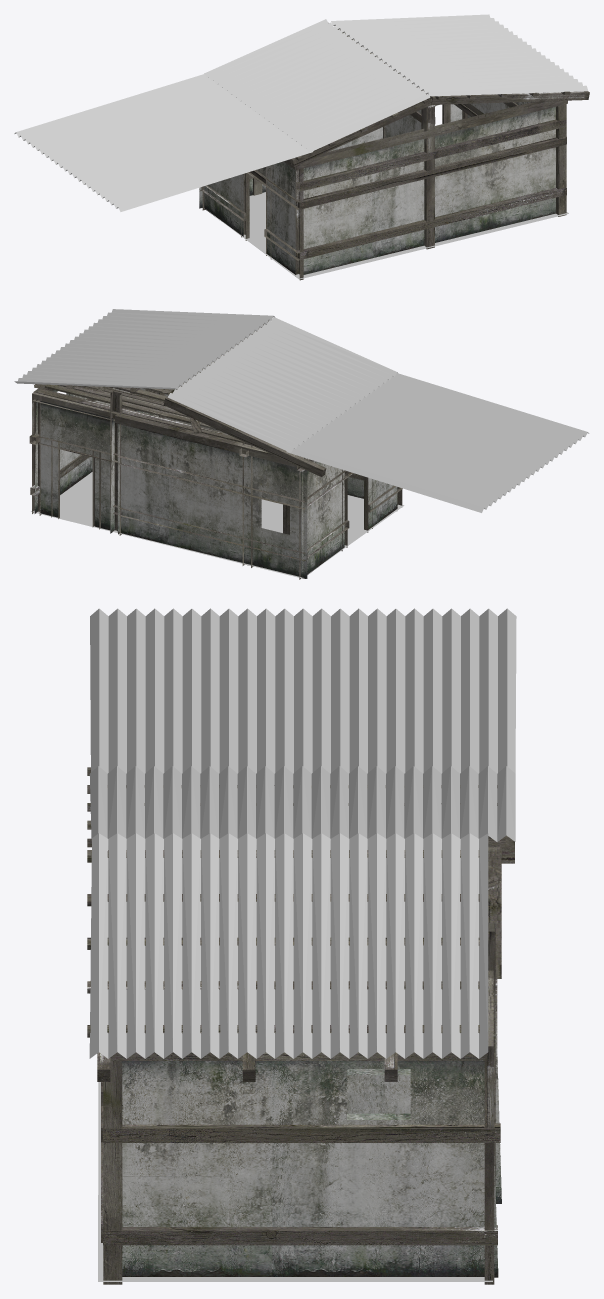
File: Room_.fbx
The picture shows the model from 3 angles, top to bottom: view 1: azimuth 30°, elevation 25°; view 2: azimuth 150°, elevation 25°; view 3: azimuth 270°, elevation 25°; orthographic projection. The views are drawn at different scales.
Parts seen in each view (by area): view 1: Room_; view 2: Room_; view 3: Room_.
Boxes of the visible parts, <box> form: Room_: <box>14,14,589,280</box>; Room_: <box>14,309,589,579</box>; Room_: <box>87,608,516,1284</box>.
Bounding box in the file's own units: 1468 × 469 × 578.
